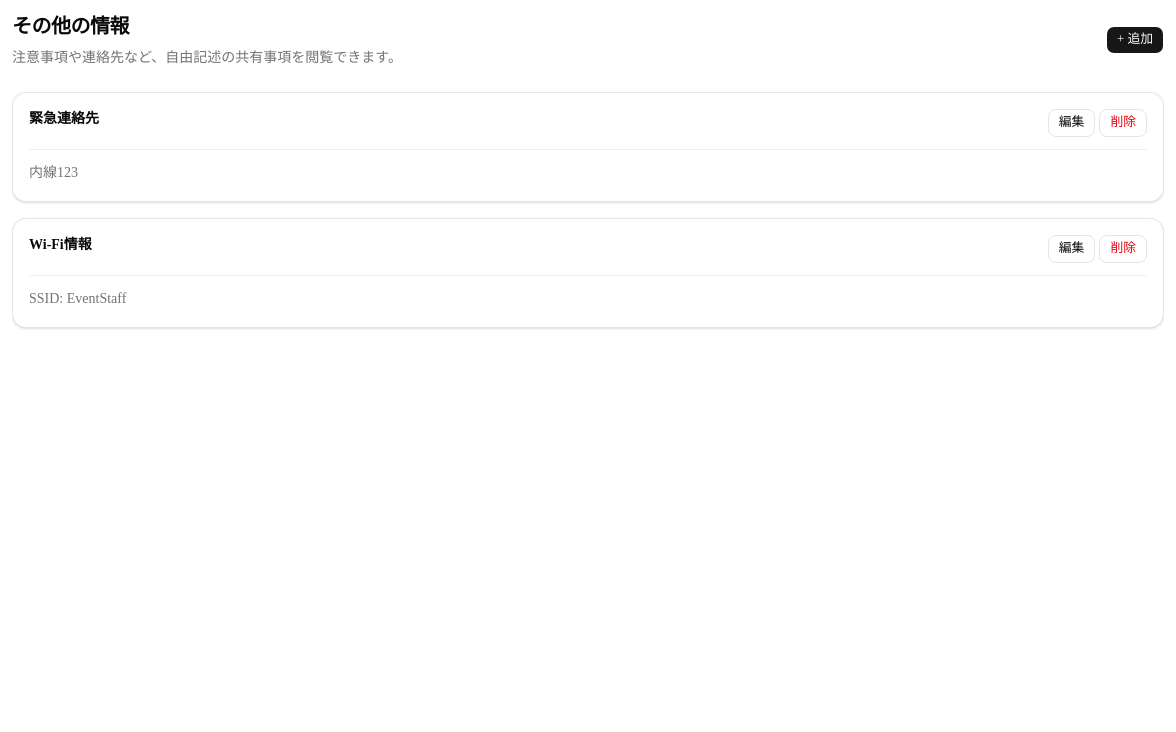
OtherItemAdminPanel › + 追加 ボタンクリックでフォームを表示する
The width and height of the screenshot is (1176, 732).
Click the button "+ 追加" at coordinates (1135, 40), box [1106,26,1164,54]
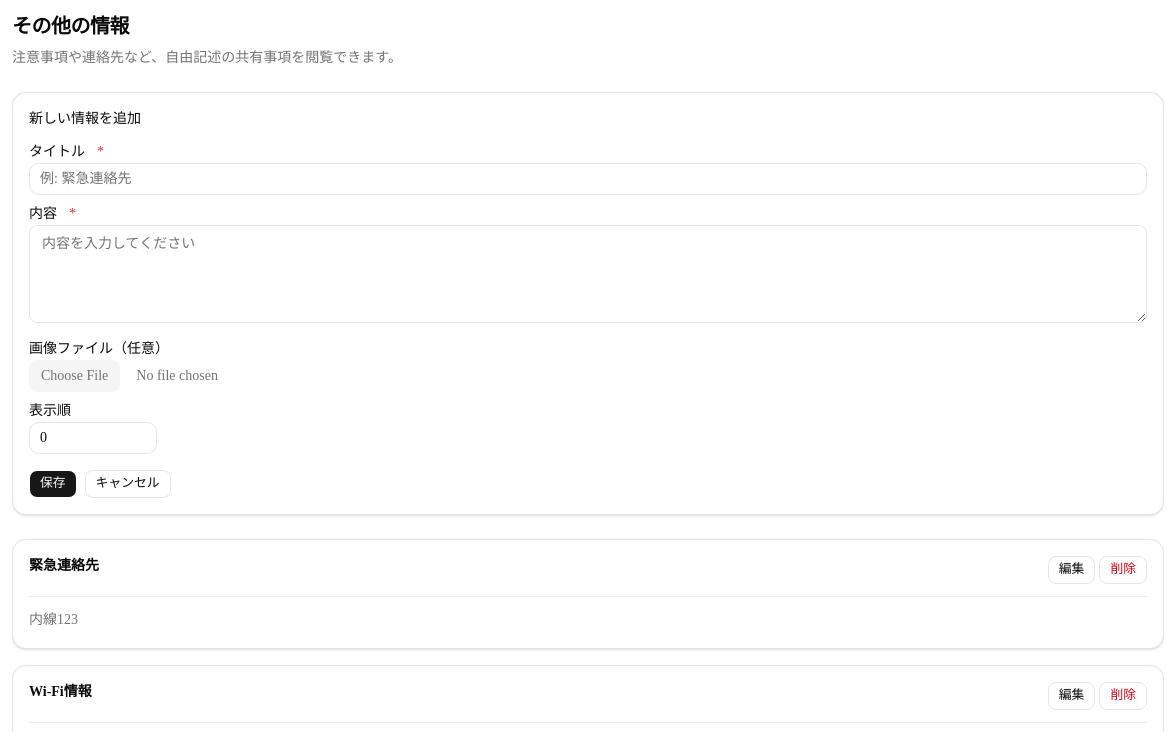
Expected: the heading "新しい情報を追加" is shown, [29,111,141,126]
Expected: the field labelled "タイトル *" is shown, [29,163,1147,195]
Expected: the text box labelled "内容 *" is shown, [29,225,1147,323]
